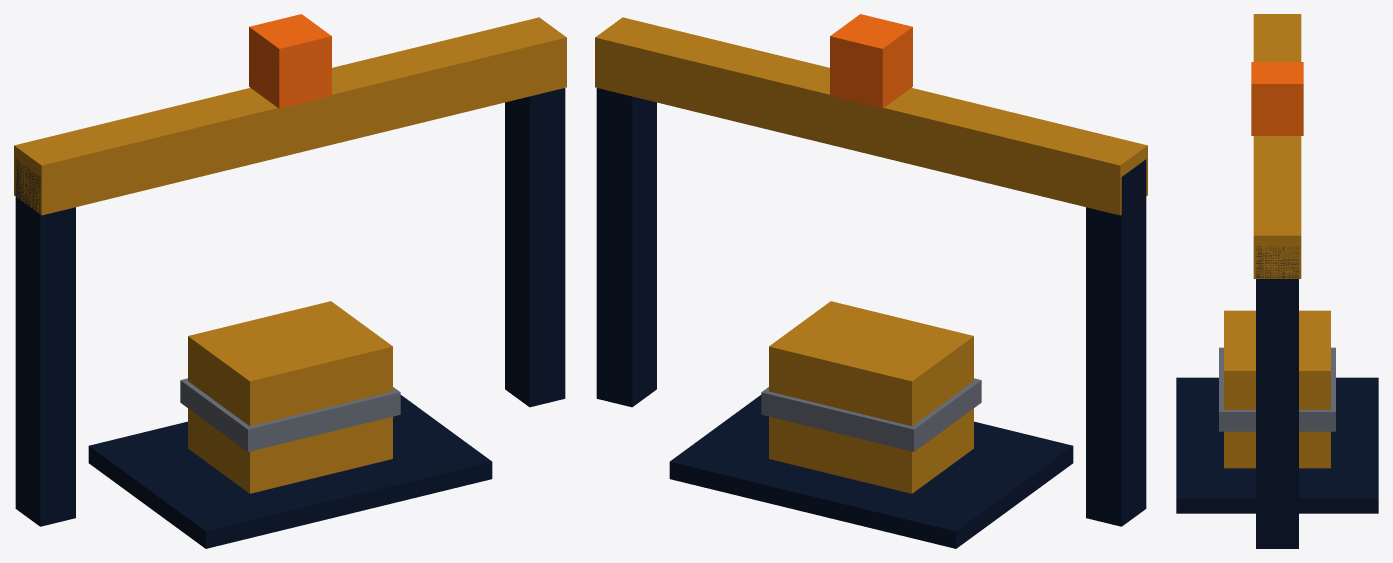
The model's file is MOD_Mission_CargoDepot.obj.
3 views of the same model, side by side, from view 1: azimuth 30°, elevation 25°; view 2: azimuth 150°, elevation 25°; view 3: azimuth 270°, elevation 25° (orthographic). The views are drawn at different scales.
Parts seen in each view (by area): view 1: RouteGateTop, CargoCrate, DepotPallet, RouteGateLeft, RouteGateRight, CheckpointBeacon, CargoCrateBand; view 2: RouteGateTop, CargoCrate, DepotPallet, RouteGateLeft, RouteGateRight, CheckpointBeacon, CargoCrateBand; view 3: DepotPallet, RouteGateRight, RouteGateTop, CargoCrate, CheckpointBeacon, CargoCrateBand.
Boxes of the visible parts, box(x1,y1,x2,y2) form: RouteGateTop: box(14, 17, 566, 215); CargoCrate: box(188, 301, 392, 493); DepotPallet: box(88, 395, 492, 548); RouteGateLeft: box(15, 159, 75, 526); RouteGateRight: box(505, 88, 565, 407); CheckpointBeacon: box(249, 14, 331, 108); CargoCrateBand: box(180, 378, 400, 451); RouteGateTop: box(595, 17, 1147, 215); CargoCrate: box(769, 301, 973, 493); DepotPallet: box(669, 395, 1073, 548); RouteGateLeft: box(1086, 159, 1146, 526); RouteGateRight: box(596, 88, 656, 407); CheckpointBeacon: box(830, 14, 912, 108); CargoCrateBand: box(761, 378, 981, 451); DepotPallet: box(1176, 377, 1378, 513); RouteGateRight: box(1256, 246, 1298, 548); RouteGateTop: box(1253, 14, 1301, 278); CargoCrate: box(1224, 310, 1330, 468); CheckpointBeacon: box(1251, 62, 1303, 135); CargoCrateBand: box(1219, 347, 1335, 431).
Bounding box in the file's own units: 4.4 × 3.52 × 1.7.
